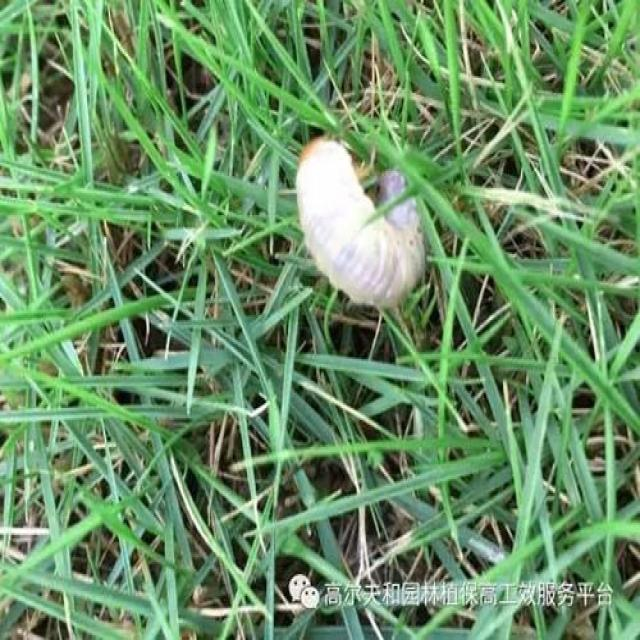grub: (292, 134, 429, 301)
